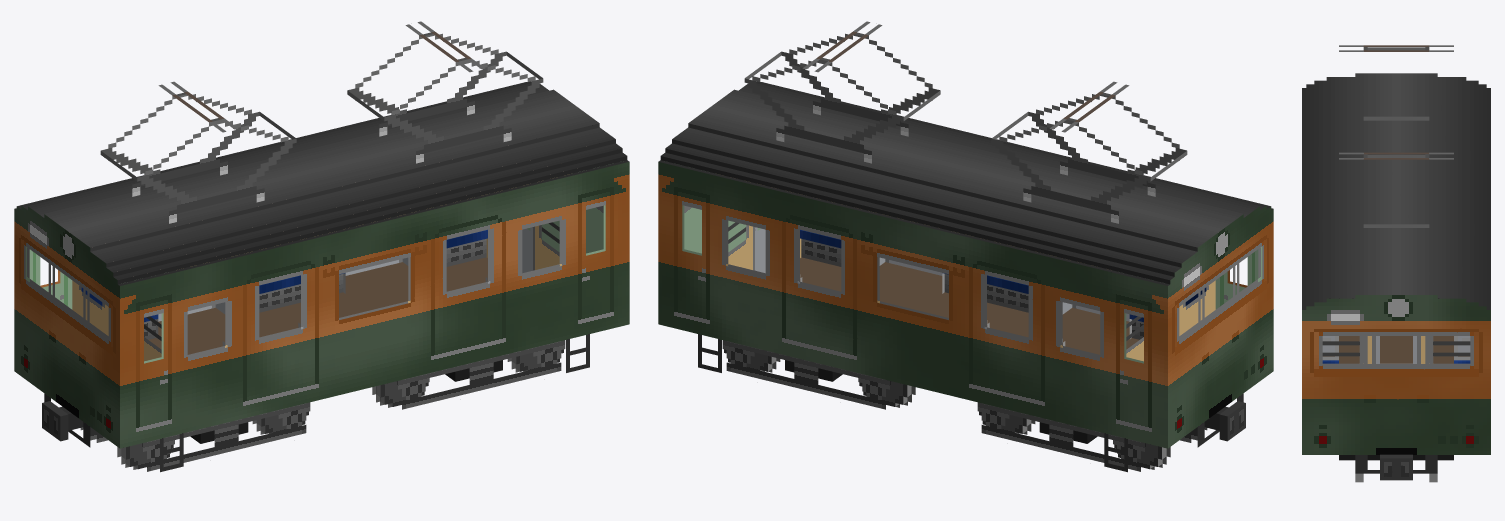
3 renders of one model, left to right at view 1: azimuth 30°, elevation 25°; view 2: azimuth 150°, elevation 25°; view 3: azimuth 270°, elevation 25°, orthographic. The views are drawn at different scales.
Visible parts, largest first — view 1: bottom (×23); view 2: bottom (×23); view 3: bottom (×18).
Boxes of the visible parts, box(x1,y1,x2,y2) form: bottom (×23): box(14, 33, 629, 472); bottom (×23): box(658, 33, 1273, 472); bottom (×18): box(1302, 45, 1490, 480).
Size of the model in its own units: 0.2656 by 0.1543 by 0.0898.
1 material, 1 textured.
